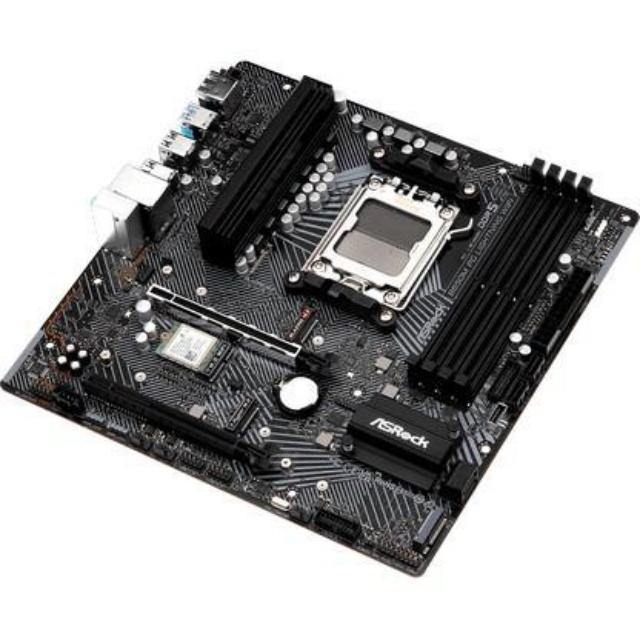Mainboard: (0, 44, 640, 592)
